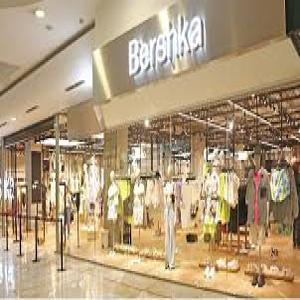bershka: (111, 5, 223, 82)
